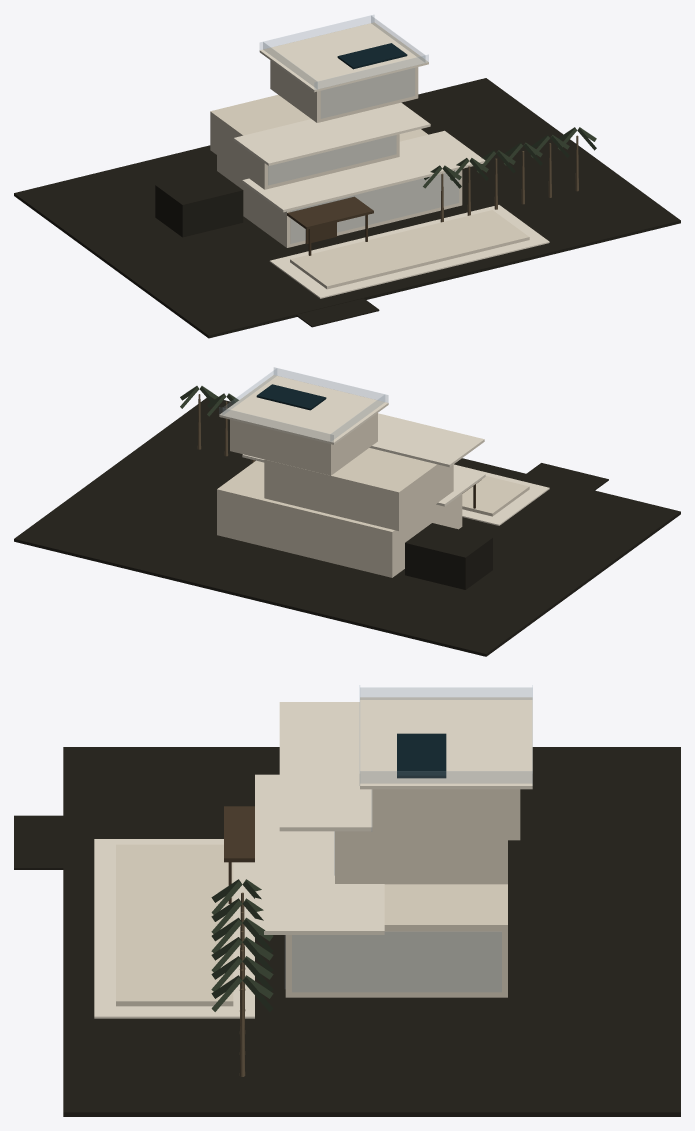
The model's file is velora-sky-palace-exterior.glb.
3 renders of one model, top to bottom at view 1: azimuth 30°, elevation 25°; view 2: azimuth 150°, elevation 25°; view 3: azimuth 270°, elevation 25°, orthographic. The views are drawn at different scales.
Visible parts, largest first — view 1: Site, Pool-Rim, Volume-02, Volume-01, Terrace-01, Terrace-02, Rooftop-Deck, Volume-03, Garage, Pool-Deck, Glass-Front-01, Glass-Front-03 (+8 smaller); view 2: Site, Volume-01, Volume-02, Rooftop-Deck, Volume-03, Garage, Terrace-02, Pool-Rim, Pool-Deck, Driveway, Rooftop-Pool, Rooftop-Railing-Rear (+3 smaller); view 3: Site, Volume-01, Pool-Rim, Rooftop-Deck, Glass-Side-01, Terrace-01, Terrace-02, Volume-02, Pool-Deck, Volume-03, Driveway, Rooftop-Pool (+9 smaller).
Part boxes in pixels (x1,y1,x2,y2): Site: (14,78,680,338); Pool-Rim: (290,210,529,289); Volume-02: (210,95,399,189); Volume-01: (217,129,462,247); Terrace-01: (242,130,485,212); Terrace-02: (233,102,430,165); Rooftop-Deck: (259,22,428,92); Volume-03: (270,60,418,122); Garage: (155,170,243,237); Pool-Deck: (269,205,549,298); Glass-Front-01: (290,170,458,243); Glass-Front-03: (321,68,414,118); Site: (14,397,680,656); Volume-01: (217,460,462,577); Volume-02: (264,448,453,530); Rooftop-Deck: (219,375,388,444); Volume-03: (230,413,377,475); Garage: (405,523,492,589); Terrace-02: (369,413,484,467); Pool-Rim: (462,476,529,516); Pool-Deck: (453,464,549,525); Driveway: (526,463,608,490); Rooftop-Pool: (256,384,326,410); Rooftop-Railing-Rear: (219,407,333,442); Site: (63,747,680,1116); Volume-01: (285,884,507,997); Pool-Rim: (116,844,233,1006); Rooftop-Deck: (360,697,532,789); Glass-Side-01: (292,932,501,991); Terrace-01: (255,774,384,934); Terrace-02: (279,702,372,831); Volume-02: (335,831,507,884); Pool-Deck: (94,839,254,1018); Volume-03: (372,789,520,840); Driveway: (14,815,63,869); Rooftop-Pool: (397,733,446,778).
Bounding box in the file's own units: 70 × 19.7 × 54.
